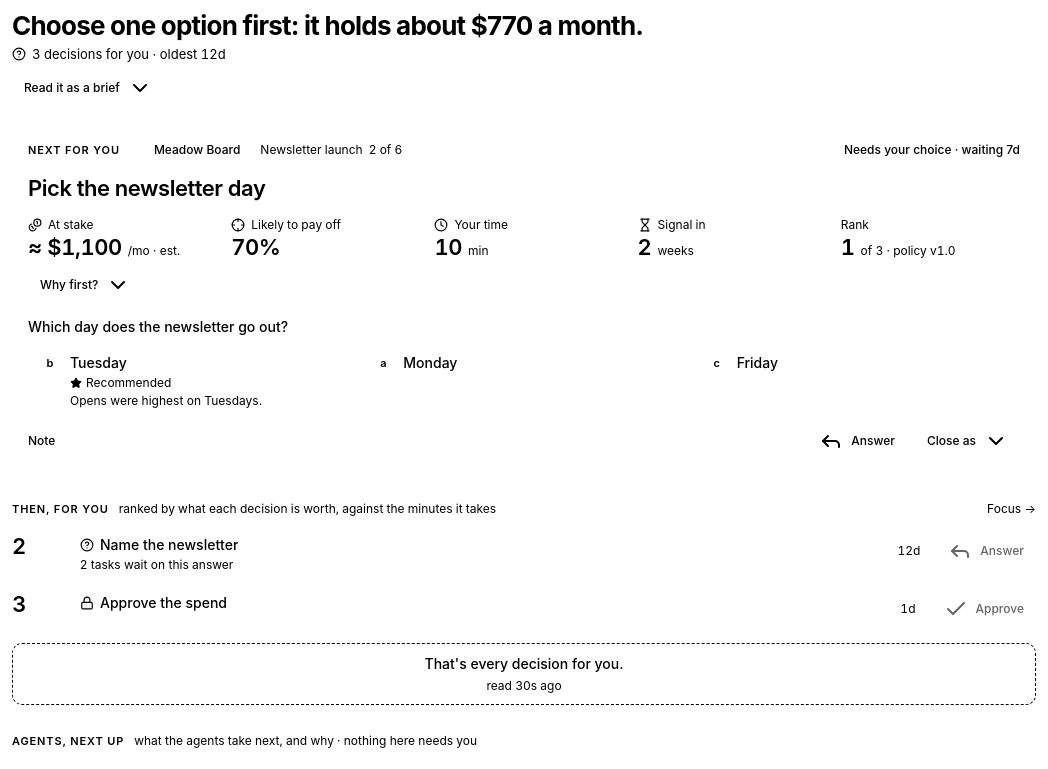
Test: Read it as a brief › is closed until asked for, then lists one sentence per fact with its press
Click the button "Read it as a brief" at [88, 88], box [12,72,164,104]
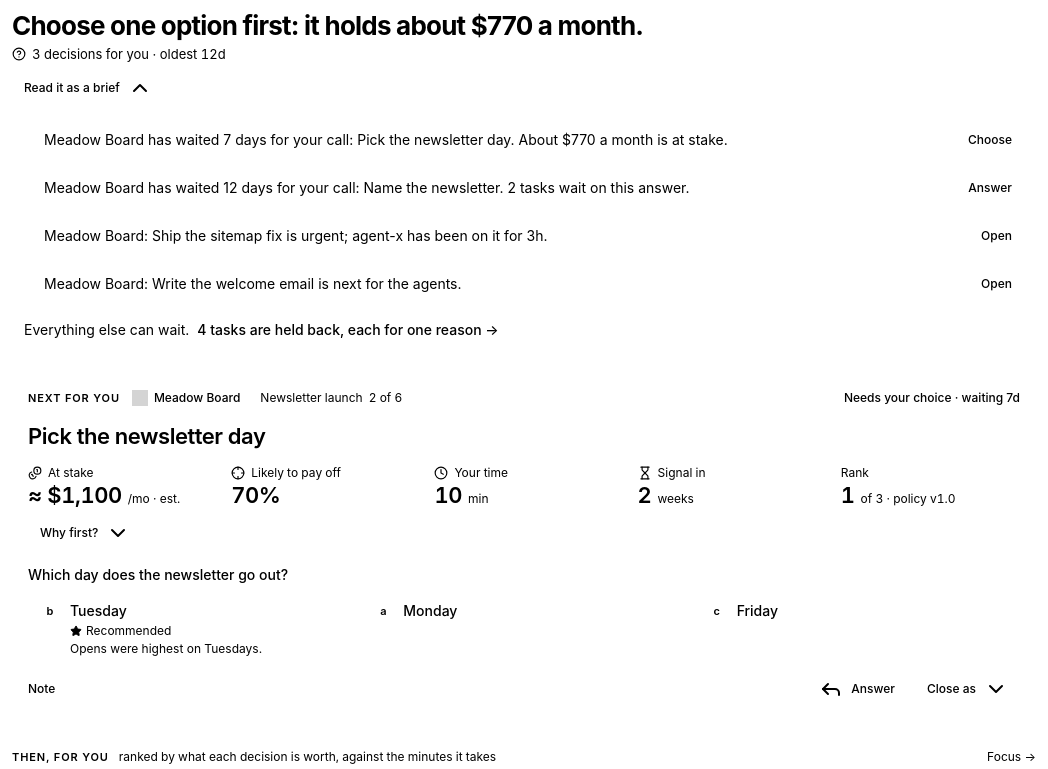
Expected: the button "Read it as a brief" is expanded, [12,72,164,104]
Expected: the 3rd list item shows "Meadow Board: Ship the sitemap fix is urgent; agent-x has been on it for 3h.", [44,227,548,244]
Expected: the 4th list item shows "Meadow Board: Write the welcome email is next for the agents.", [44,275,462,292]
